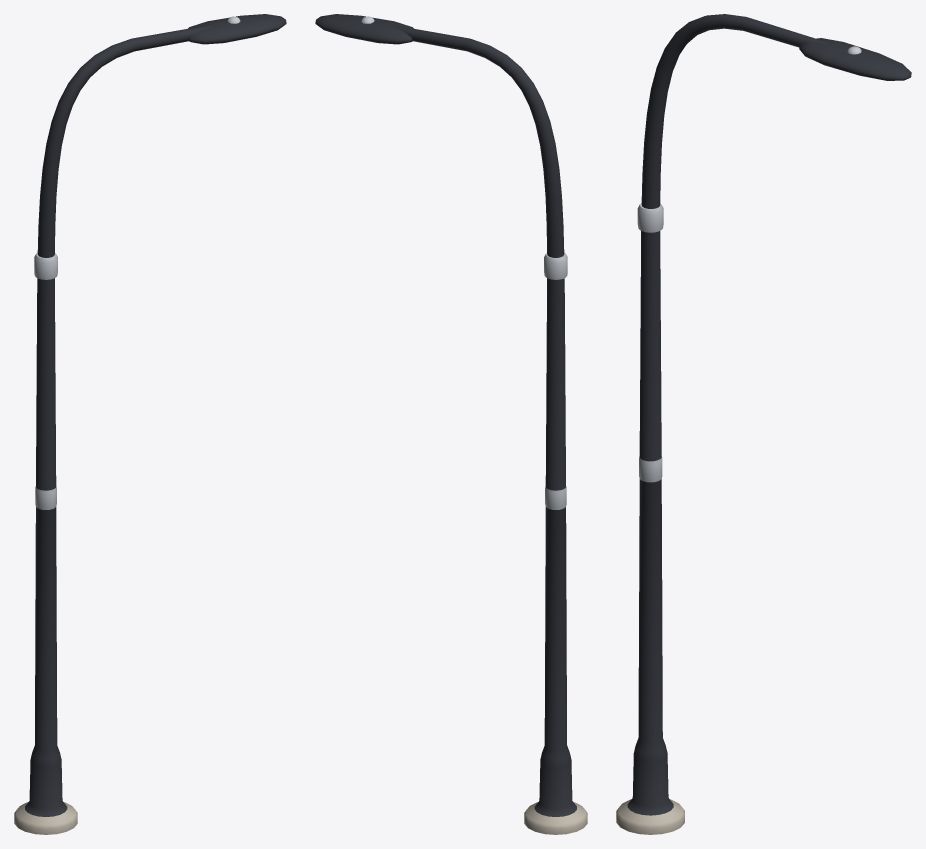
The model's file is street_lamp.glb.
The picture shows the model from 3 angles, left to right: view 1: azimuth 30°, elevation 25°; view 2: azimuth 150°, elevation 25°; view 3: azimuth 330°, elevation 25°; orthographic projection. The views are drawn at different scales.
Parts seen in each view (by area): view 1: street_lamp; view 2: street_lamp; view 3: street_lamp.
Part boxes in pixels (left/top/right/bottom): street_lamp: left=14, top=14, right=286, bottom=834; street_lamp: left=315, top=14, right=587, bottom=834; street_lamp: left=616, top=14, right=911, bottom=834.
Bounding box in the file's own units: 2.31 × 6.27 × 0.4727.
